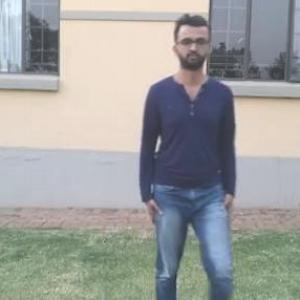follow: (144, 16, 241, 299)
